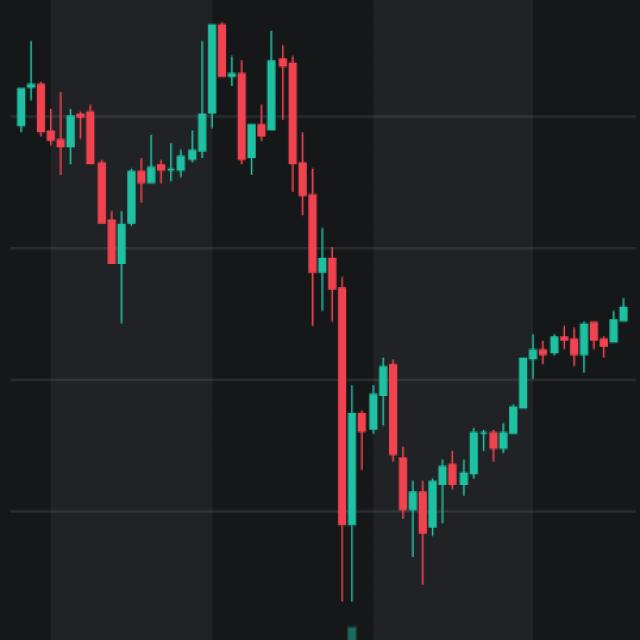Double-Top: (183, 4, 317, 207)
Triangle: (297, 234, 580, 640)
